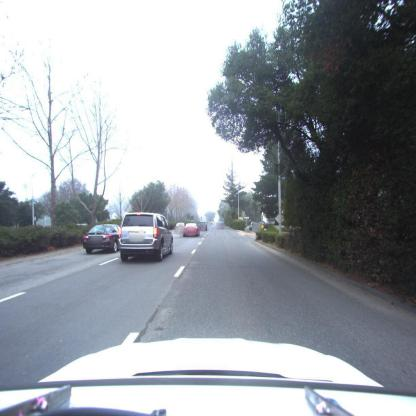car: (119, 212, 175, 262), (83, 225, 122, 254), (183, 224, 199, 237), (198, 219, 208, 234), (249, 222, 258, 233)
